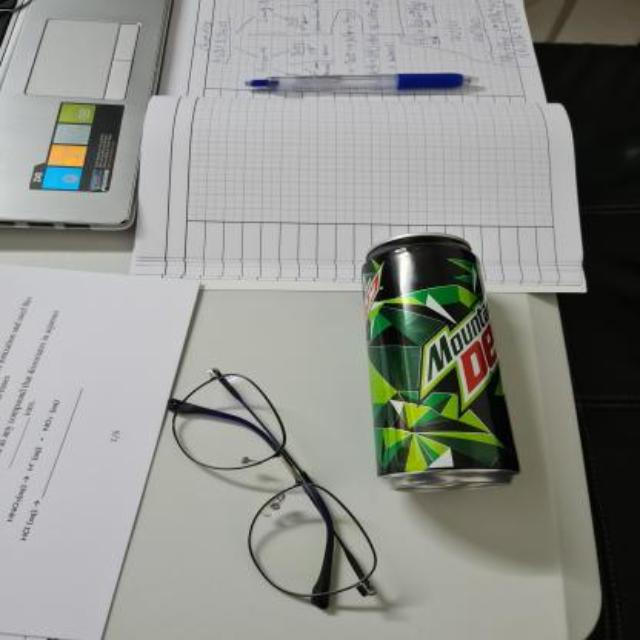cardboard paper: (134, 0, 585, 292), (0, 266, 197, 638)
metal: (360, 232, 515, 486)
